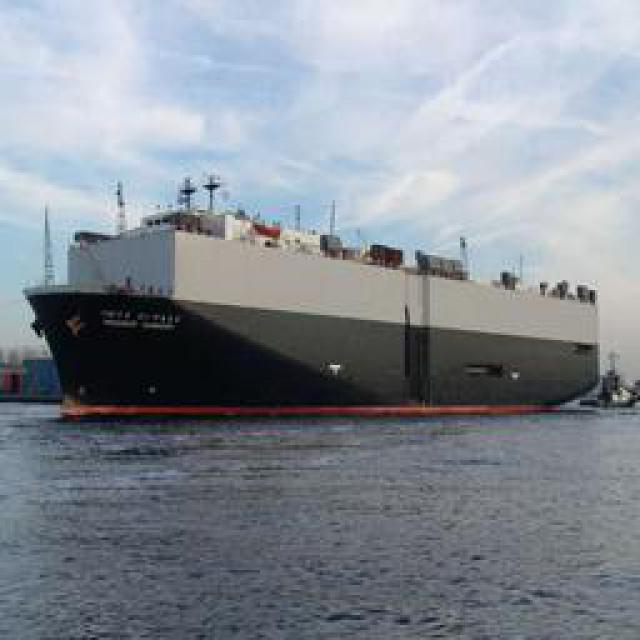Ship: (33, 185, 618, 423)
